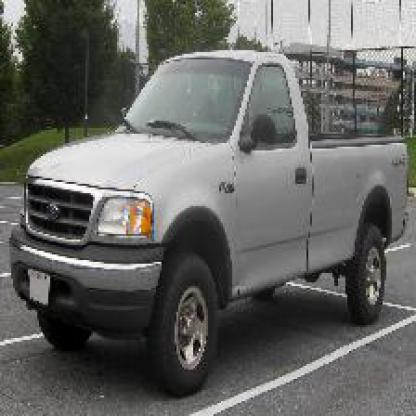not_emergency: (24, 44, 399, 366)
